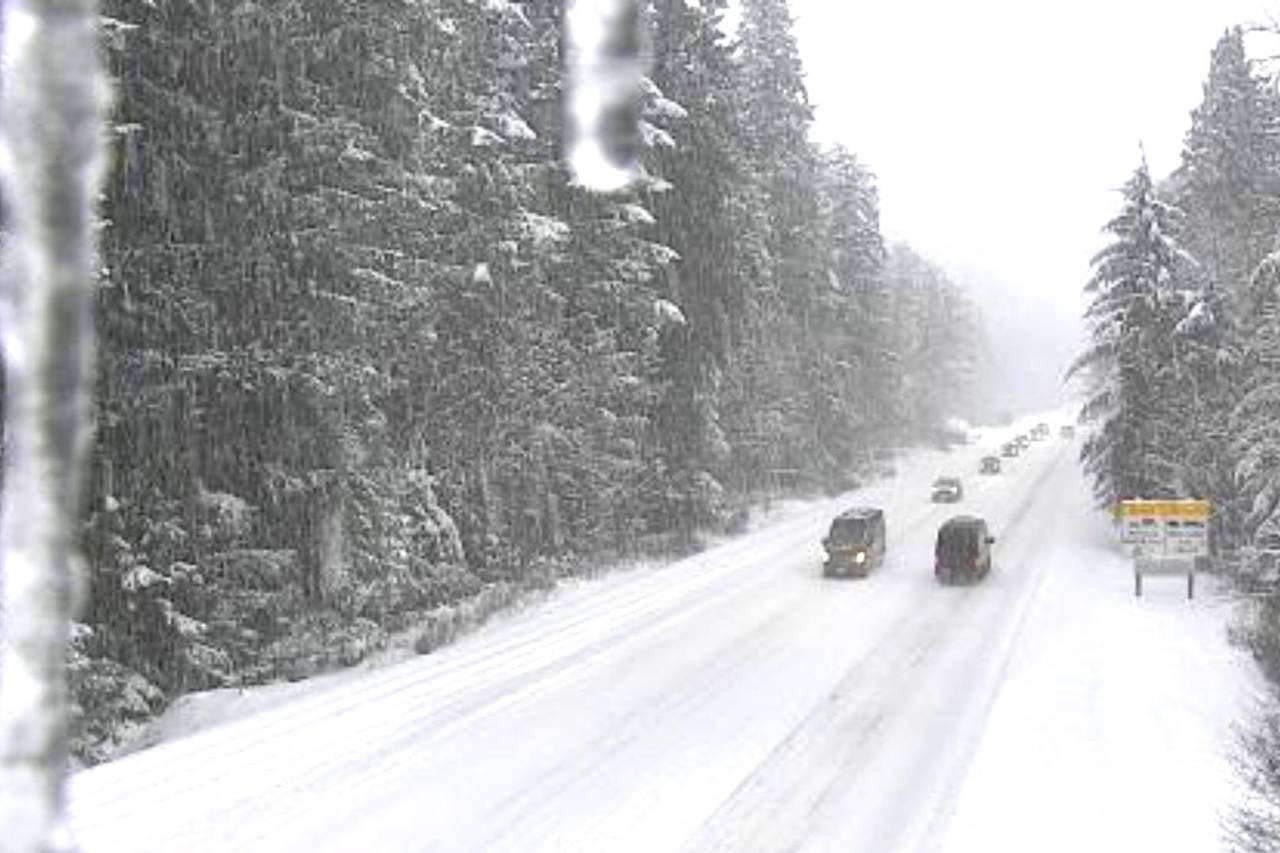car: (821, 505, 888, 579), (932, 513, 996, 587), (927, 478, 961, 502), (977, 451, 1000, 471), (999, 443, 1017, 459), (1012, 436, 1030, 451), (1034, 420, 1051, 435), (1027, 428, 1043, 441)
